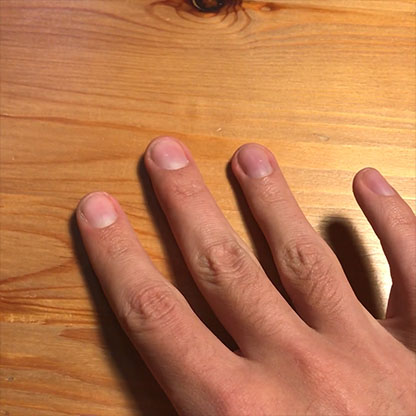fingertip: (224, 136, 283, 185), (69, 183, 121, 236), (350, 160, 401, 212), (150, 125, 195, 181)
